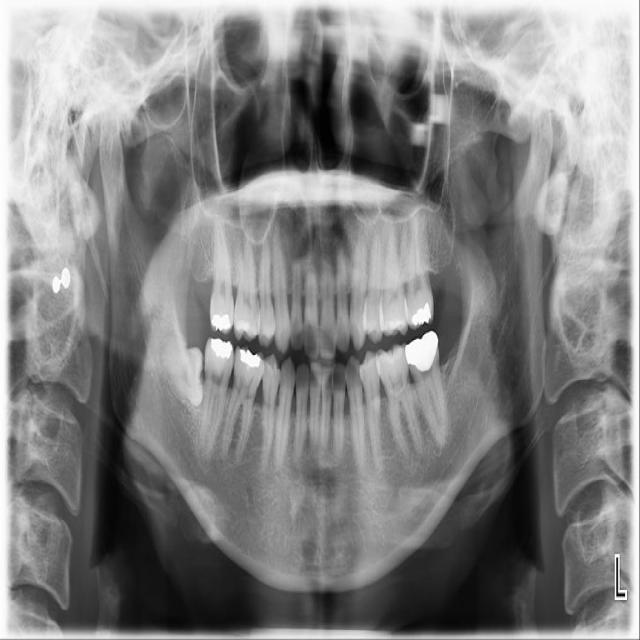52: (396, 328, 451, 380), (225, 342, 272, 389), (401, 277, 436, 330), (199, 335, 239, 380), (377, 286, 410, 338), (233, 292, 261, 342), (210, 288, 235, 334)
73: (608, 578, 620, 590)
BioHorizons Implant: (400, 192, 435, 330)
Blue Sky Bio Implant: (402, 330, 453, 451)
Caries: (209, 200, 238, 335)
Implant: (198, 337, 236, 455)
Keystone Dental Implant: (160, 337, 205, 408)
